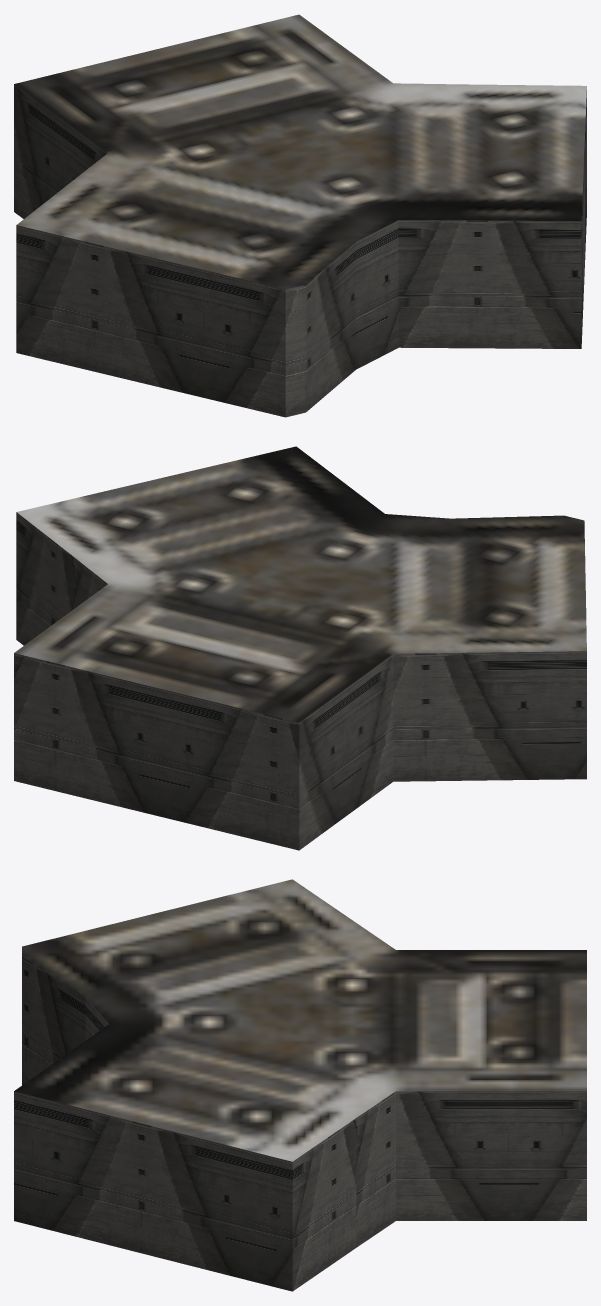
File: fortress_heavy_21.glb
3 renders of one model, top to bottom at view 1: azimuth 30°, elevation 25°; view 2: azimuth 150°, elevation 25°; view 3: azimuth 270°, elevation 25°, orthographic.
Parts seen in each view (by area): view 1: buildings/saxarba/fortress_heavy/fortress_heavy_21; view 2: buildings/saxarba/fortress_heavy/fortress_heavy_21; view 3: buildings/saxarba/fortress_heavy/fortress_heavy_21.
Part boxes in pixels (x1,y1,x2,y2): buildings/saxarba/fortress_heavy/fortress_heavy_21: (14, 14, 586, 417); buildings/saxarba/fortress_heavy/fortress_heavy_21: (14, 446, 586, 850); buildings/saxarba/fortress_heavy/fortress_heavy_21: (14, 879, 586, 1291).
Size of the model in its own units: 84 by 18 by 72.
